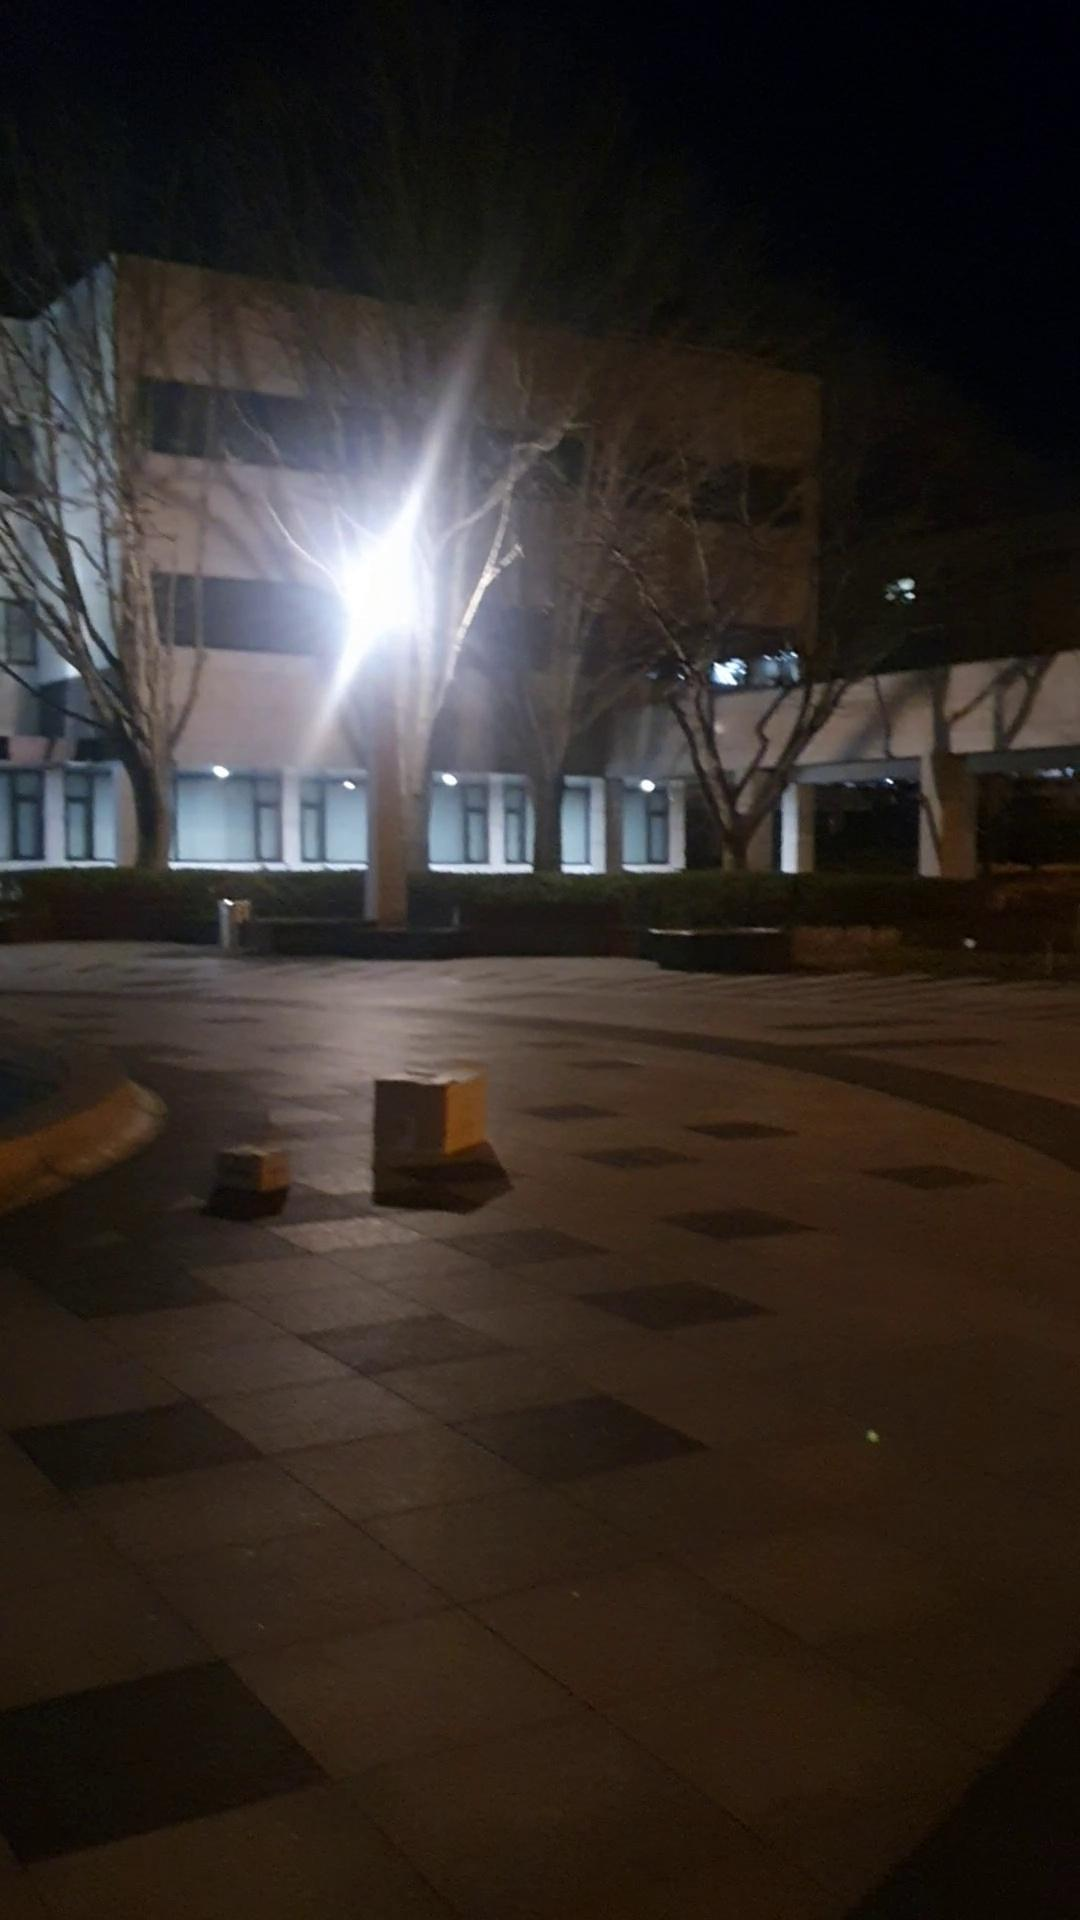Box: (363, 1055, 492, 1189), (206, 1138, 313, 1213)
